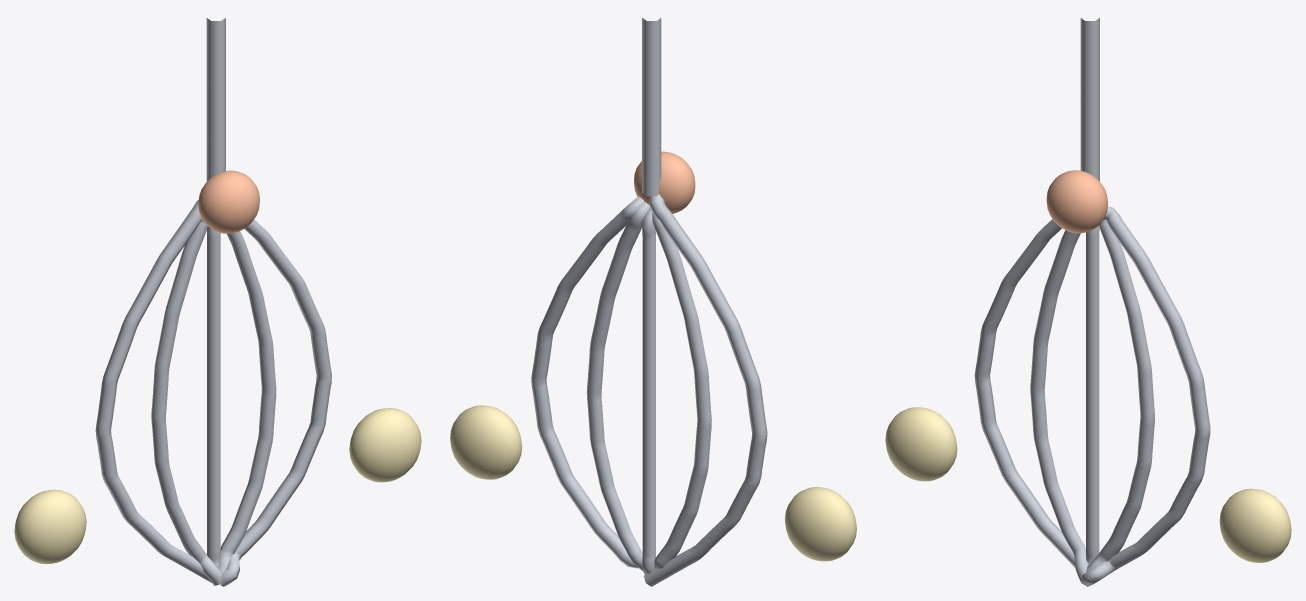
The model's file is decor_4_classic.glb.
3 views of the same model, side by side, from view 1: azimuth 30°, elevation 25°; view 2: azimuth 150°, elevation 25°; view 3: azimuth 330°, elevation 25° (orthographic).
Visible parts, largest first — view 1: decor_4_classic; view 2: decor_4_classic; view 3: decor_4_classic.
Boxes of the visible parts, x1,y1,x2,y2 form: decor_4_classic: [14, 18, 421, 586]; decor_4_classic: [450, 17, 856, 586]; decor_4_classic: [885, 17, 1291, 586].
Bounding box in the file's own units: 7.2 × 9.7 × 1.2.
